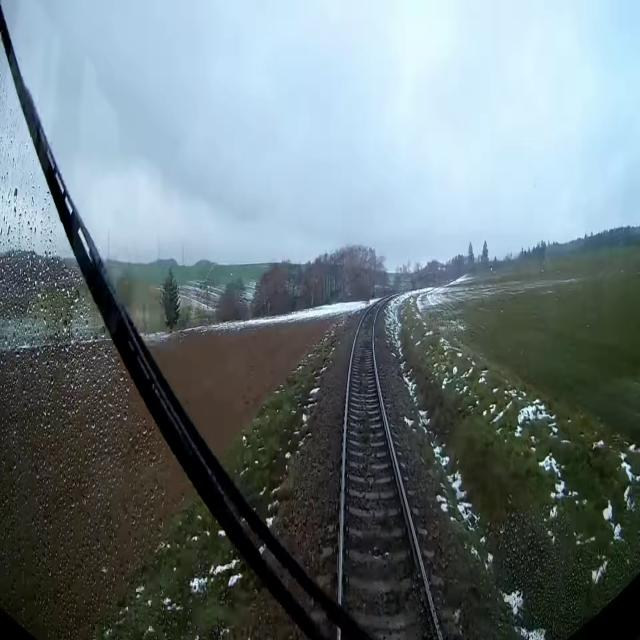rail-track: (342, 301, 438, 639)
